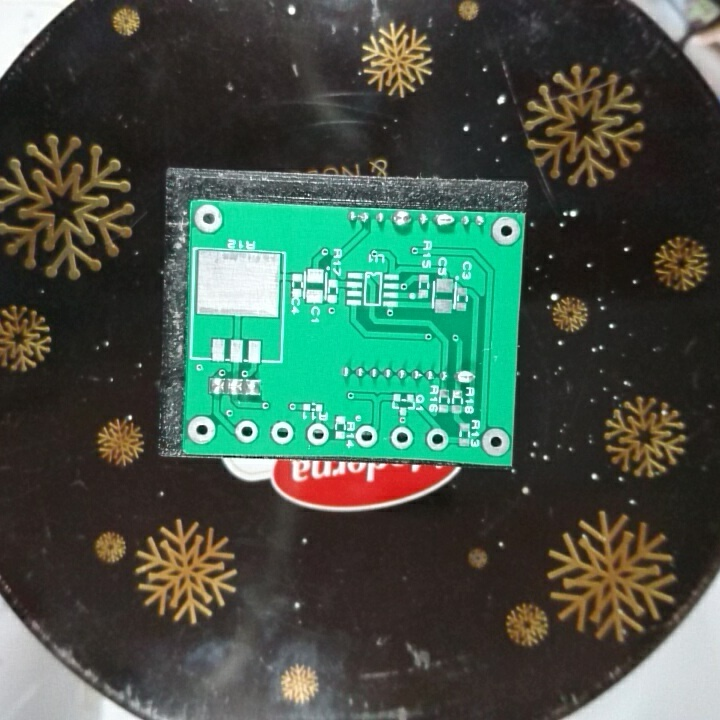F: (490, 214, 522, 250), (192, 202, 225, 235), (184, 414, 217, 447), (479, 426, 511, 459), (267, 418, 297, 448), (233, 418, 260, 446), (353, 420, 379, 449), (305, 420, 329, 448), (425, 427, 450, 453), (388, 426, 415, 450)
P: (432, 209, 457, 231), (454, 365, 477, 388), (388, 209, 414, 229)
